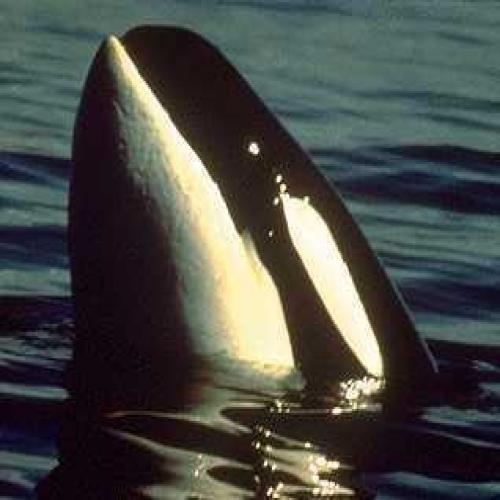killer_whale-endangered: (54, 7, 442, 405)
